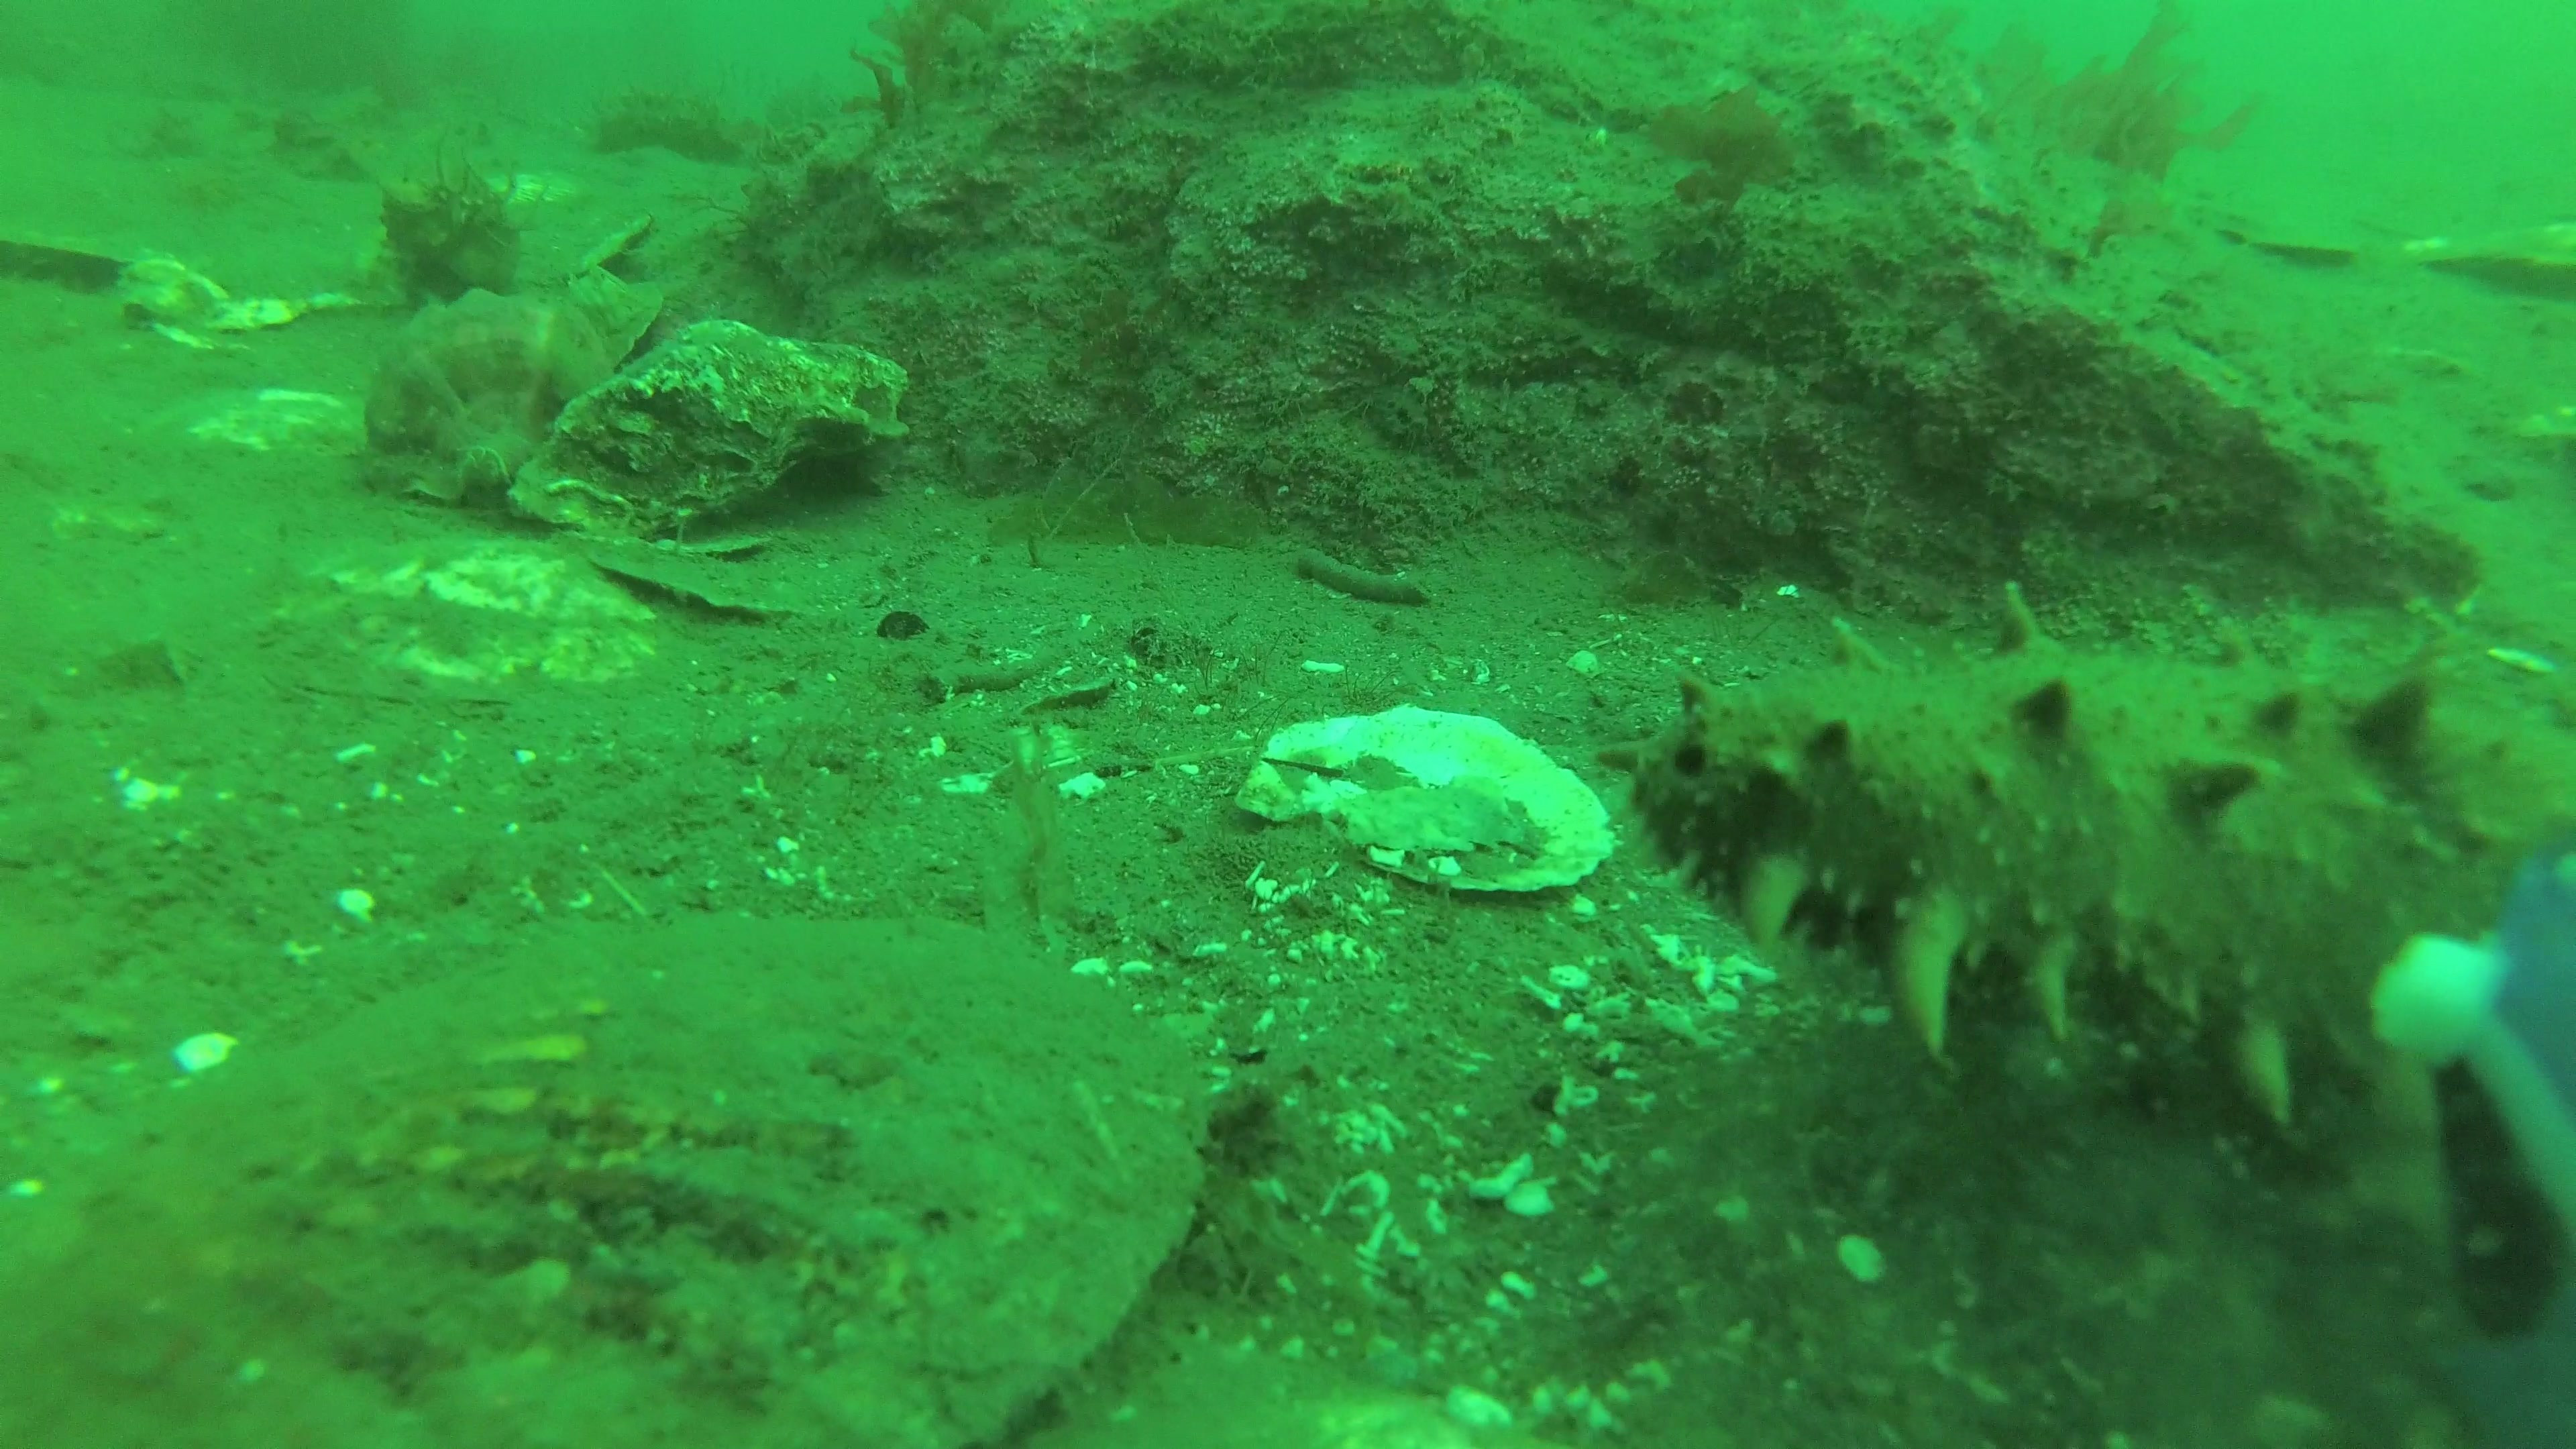holothurian: (1626, 633, 2560, 1134)
scallop: (4, 901, 1217, 1447), (272, 520, 663, 708)
